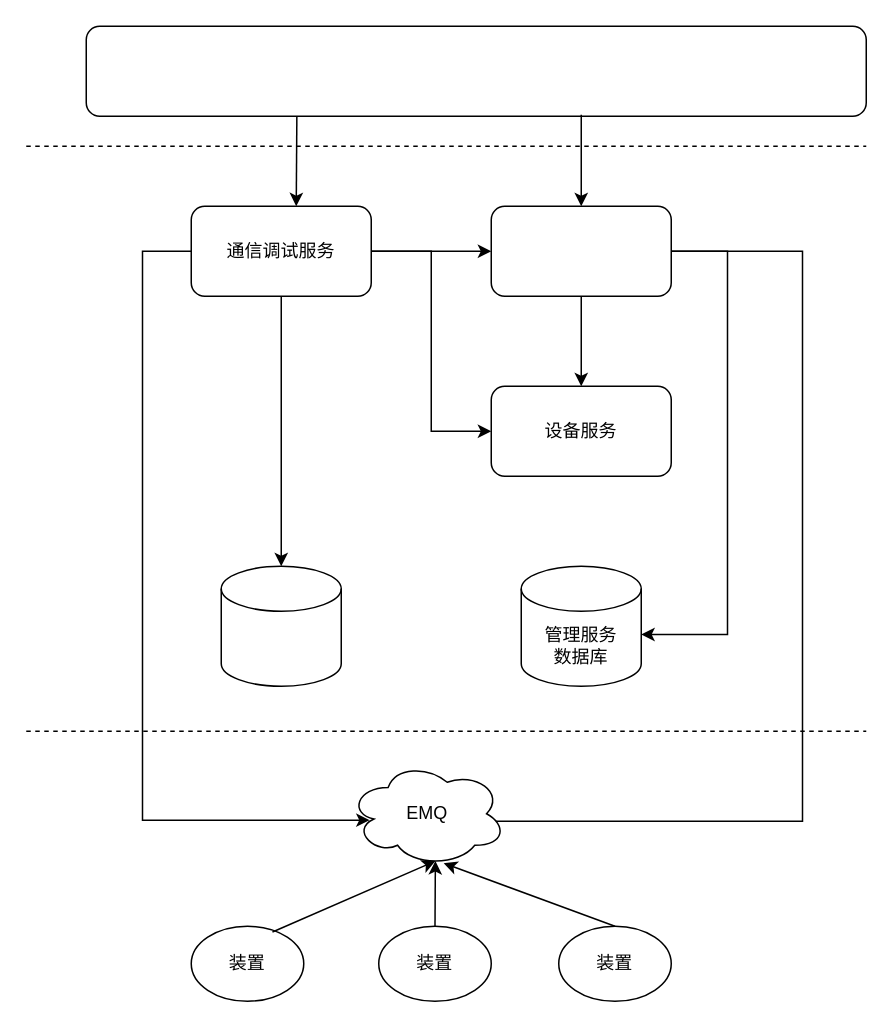
Some shapes in this 894 by 1028 pixel diagram are drawn without their labels. The centre of each missing label's shape, as x and y in pixels:
"wxMiniApp" belongs at pixel 475 70.
"管理服务" belongs at pixel 580 250.
"通信调试服务 数据库" belongs at pixel 280 625.
